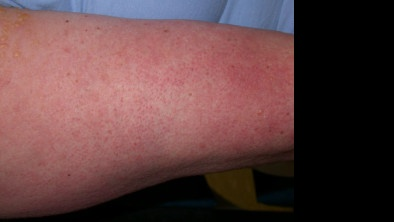SJS-TEN: (0, 7, 35, 72)
